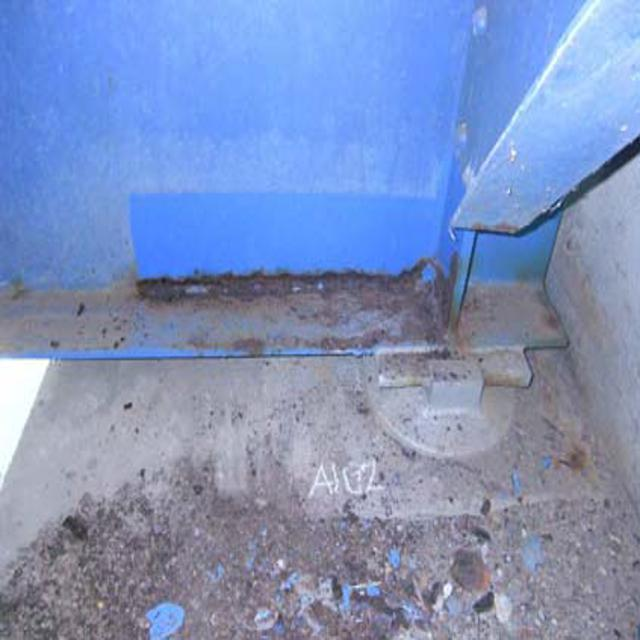corrosion: (97, 244, 503, 370)
